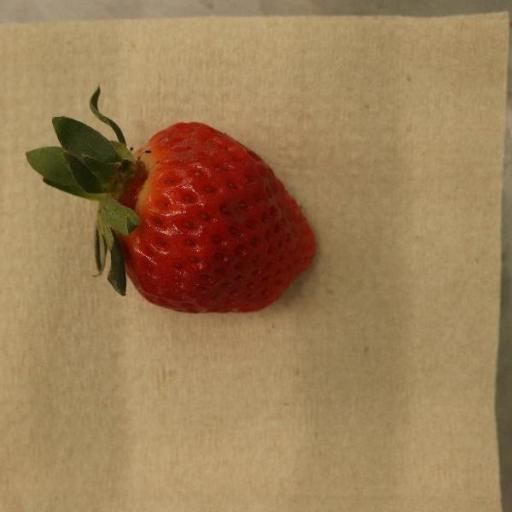Strawberry: (23, 88, 316, 315)
